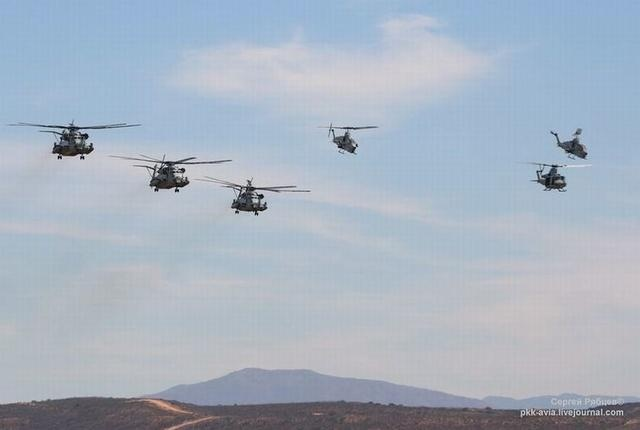airplane: (111, 146, 232, 203), (10, 110, 135, 164), (198, 173, 314, 222), (516, 159, 598, 196), (314, 120, 383, 157), (549, 124, 598, 158)
